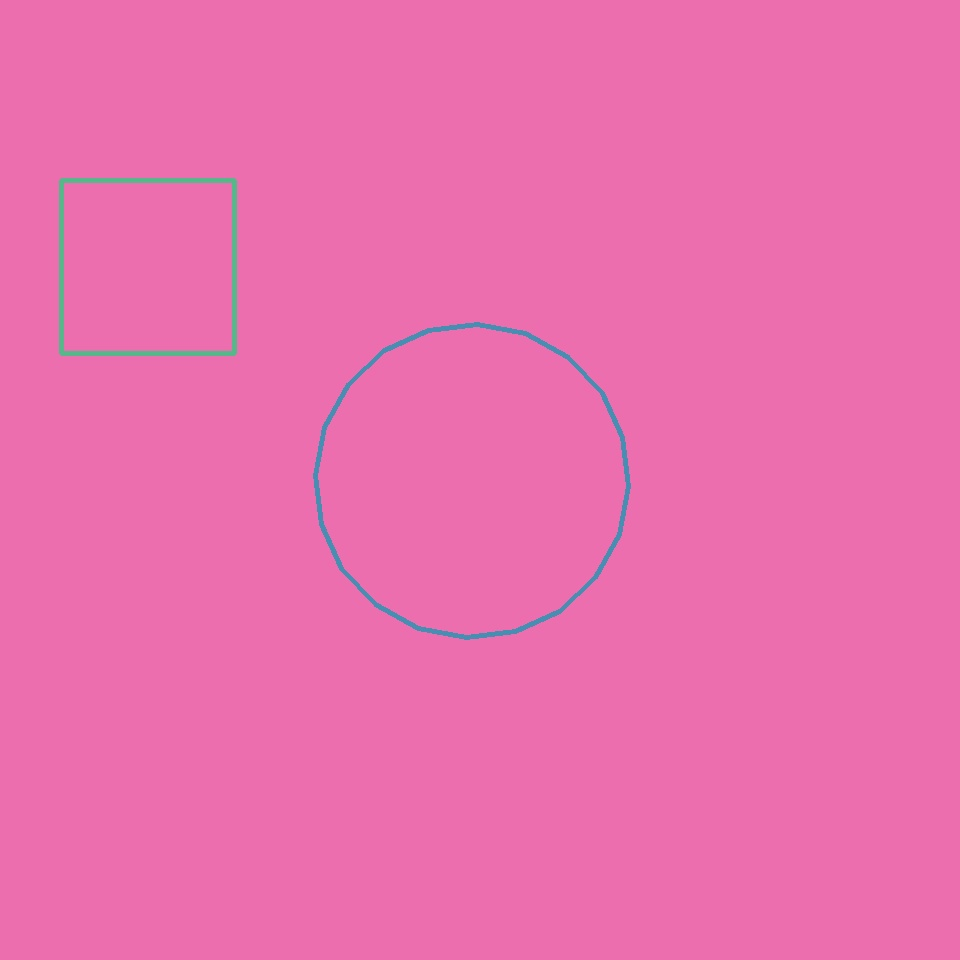square: (62, 181, 234, 354)
triangle: (316, 325, 628, 638)
